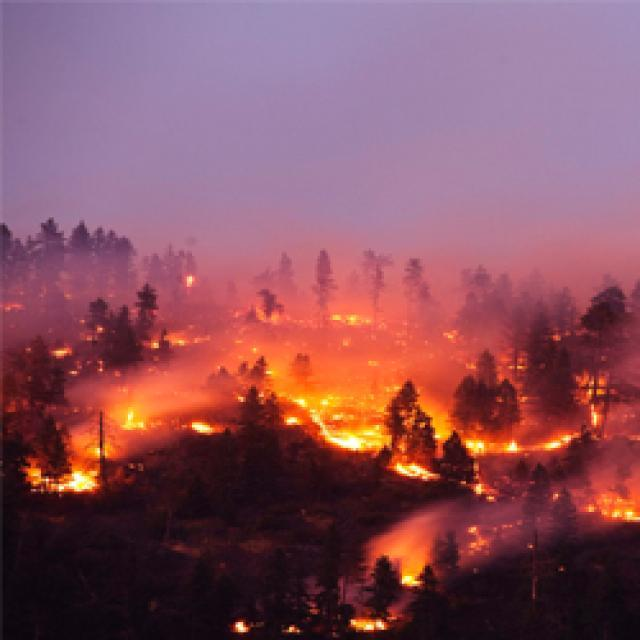Fire: (107, 259, 460, 362), (376, 382, 622, 496), (106, 385, 358, 463), (334, 511, 468, 640), (22, 400, 158, 500), (568, 450, 640, 550), (219, 609, 356, 640)
Smoke: (0, 0, 640, 354)
